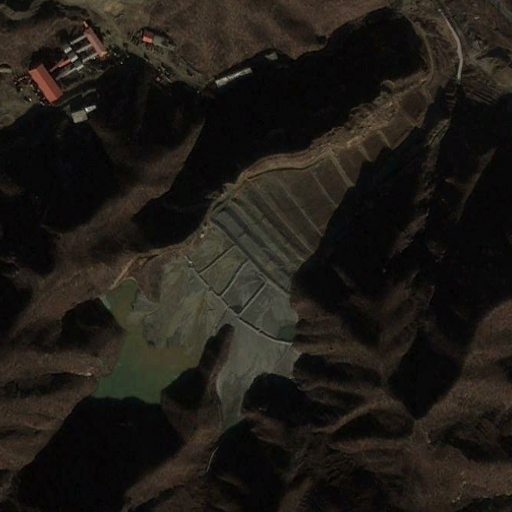tp: (89, 113, 418, 431)
